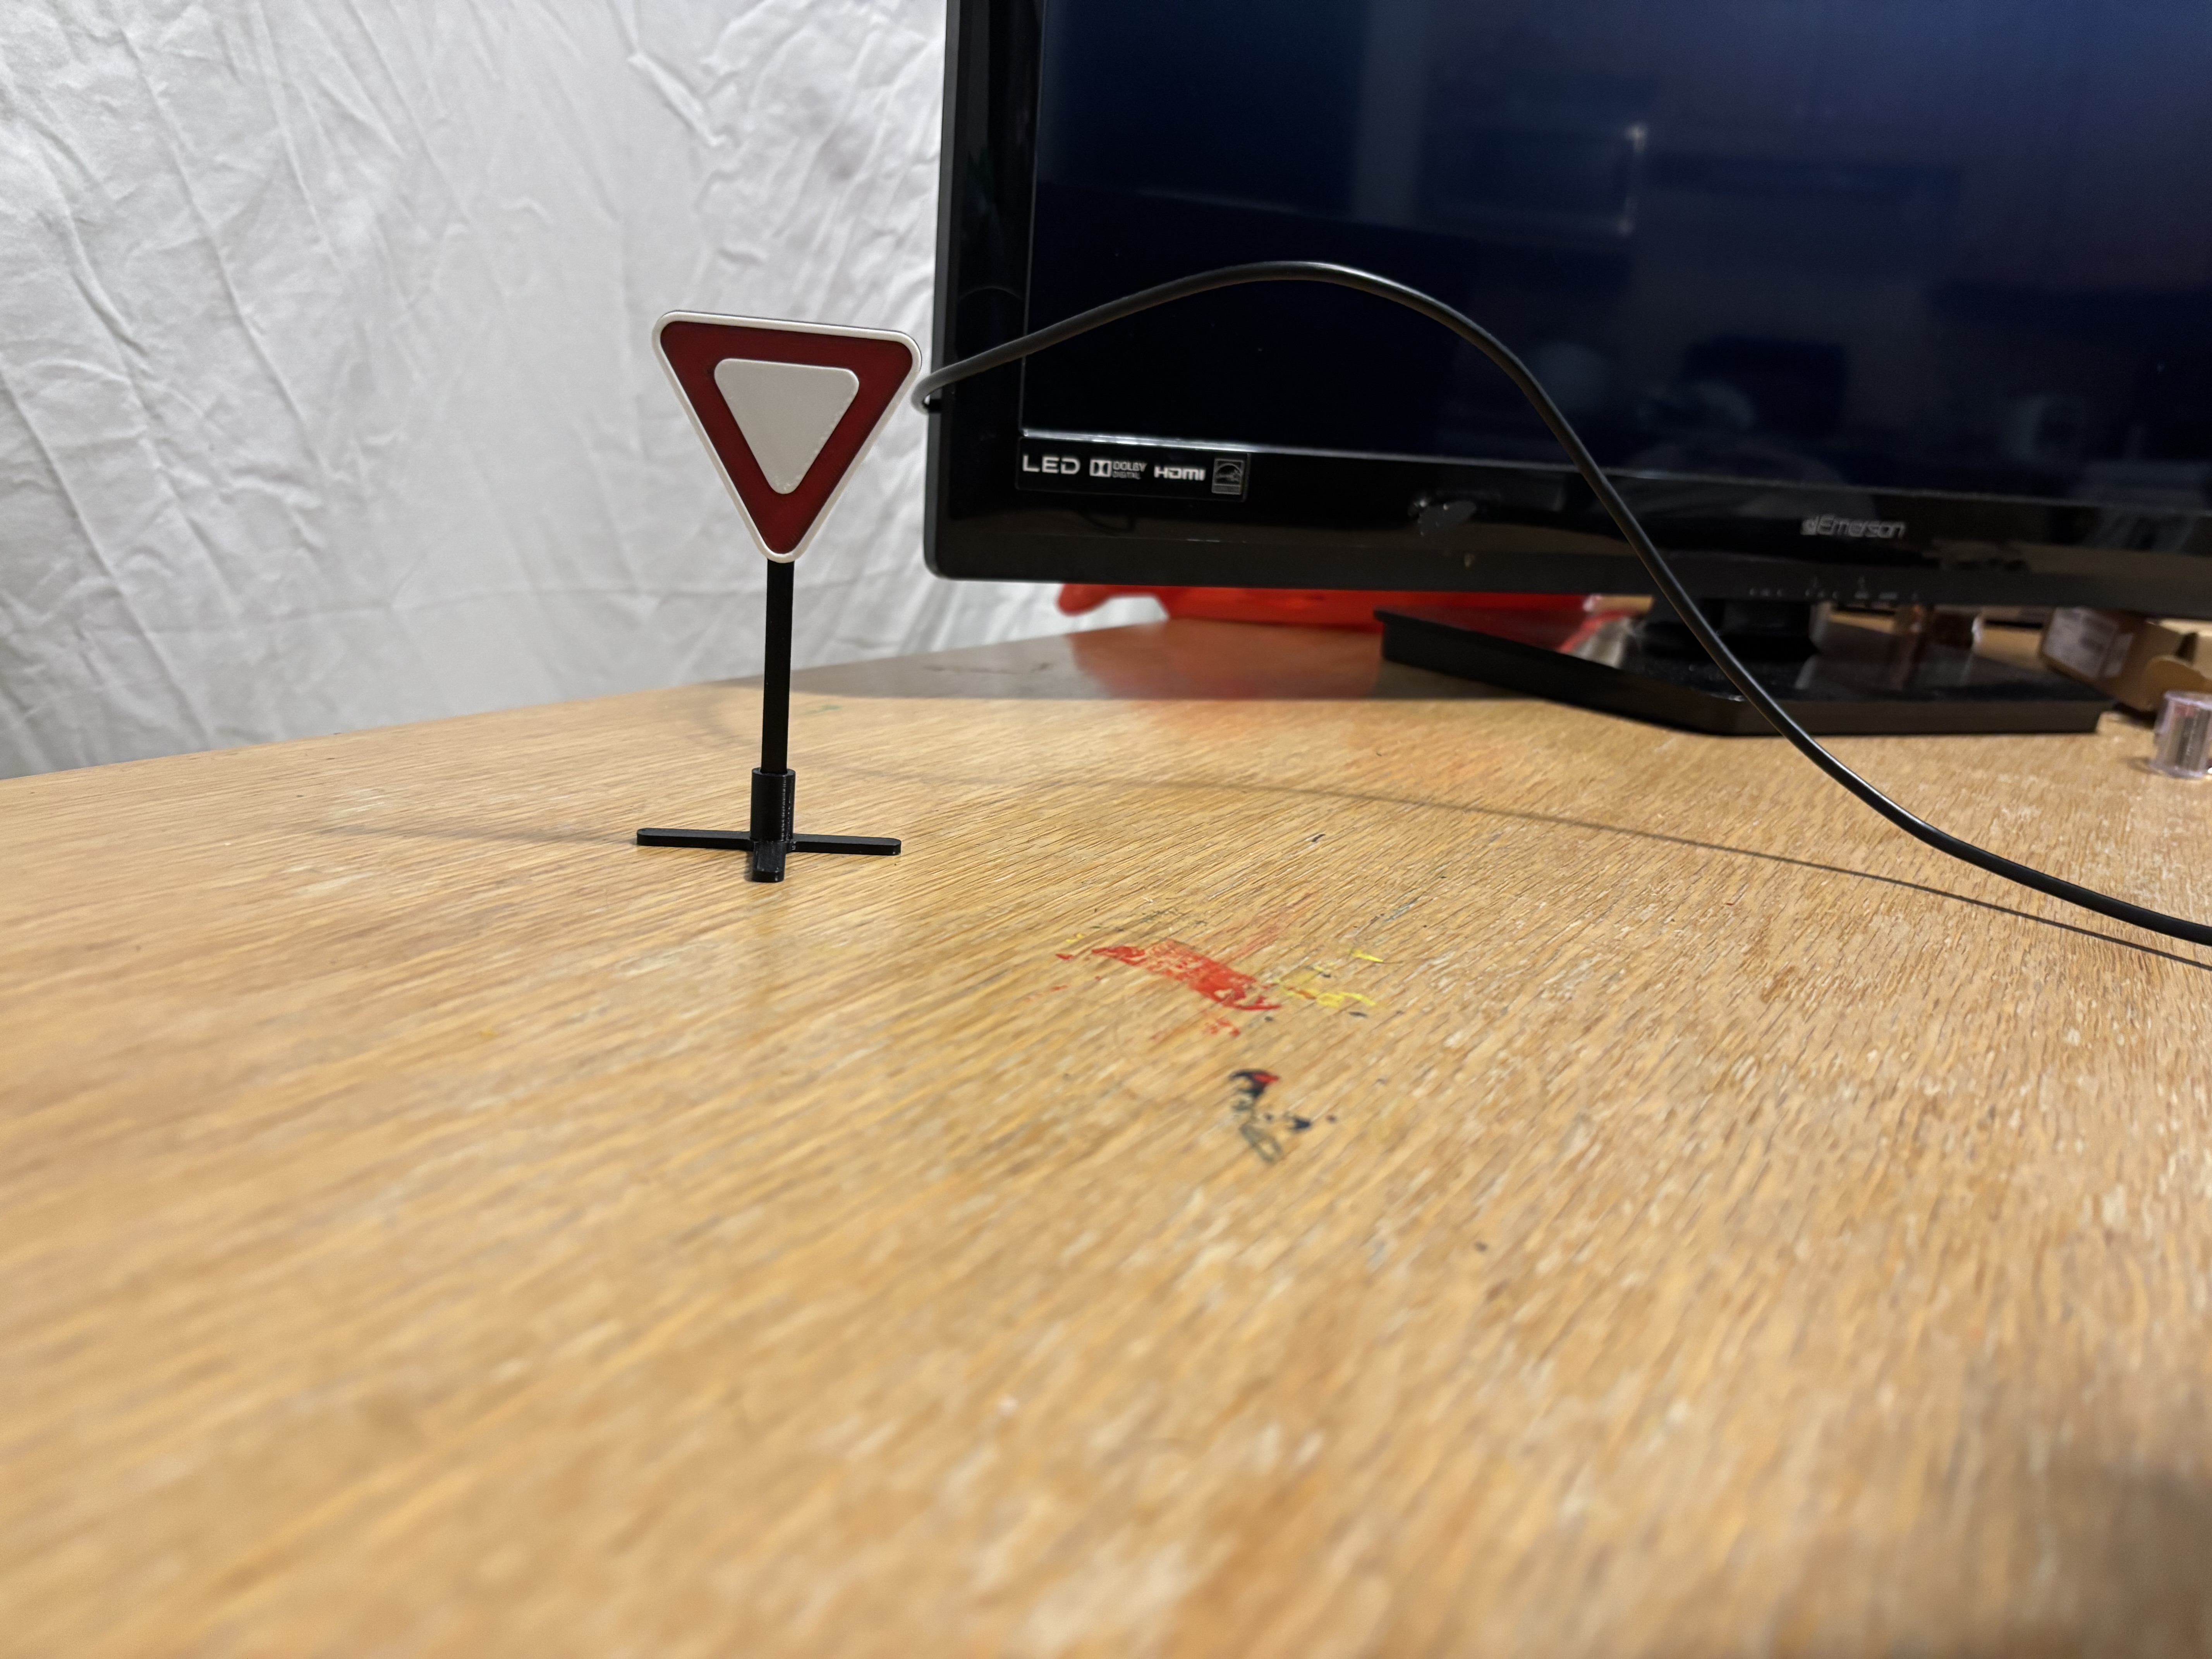sign_yield: (631, 308, 920, 556)
